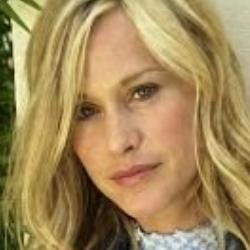face: (11, 1, 247, 240)
